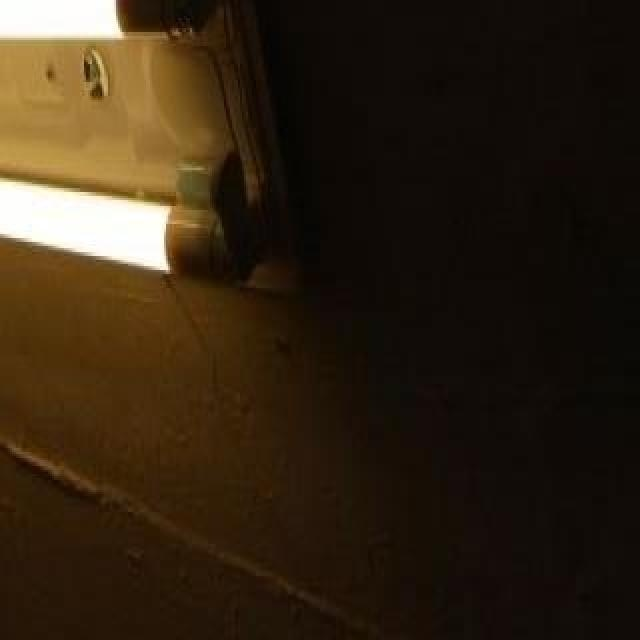fluorescent tube: (0, 88, 292, 284), (0, 0, 220, 52)
